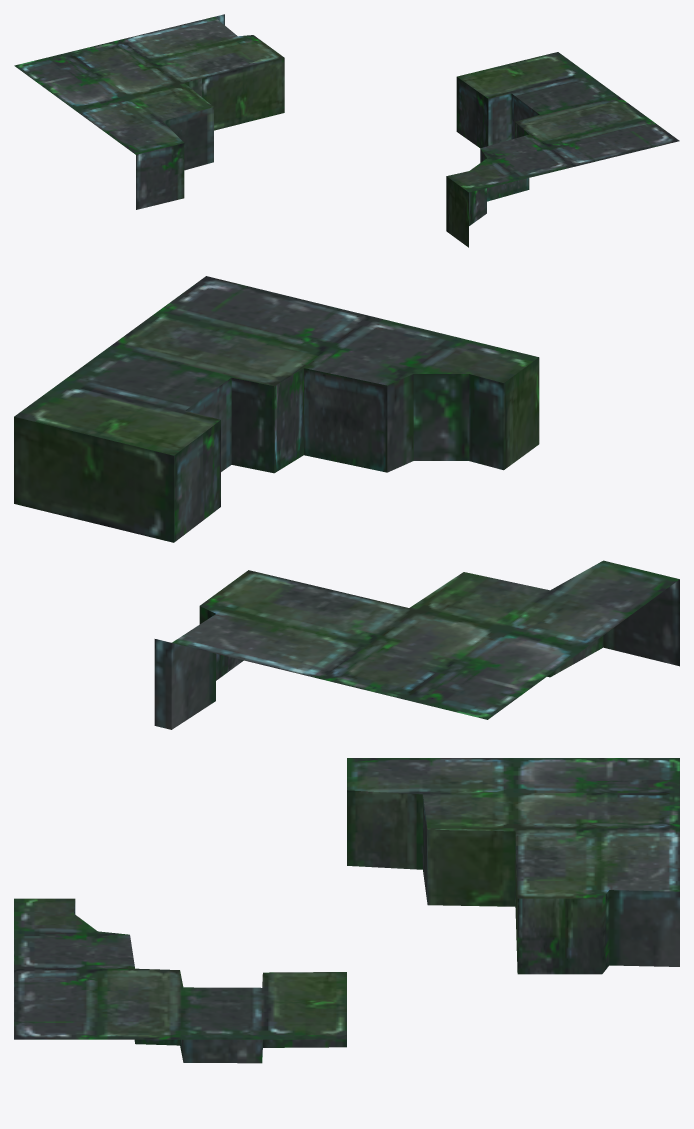
File: stemple_floor_diagonal_03a.fbx
The picture shows the model from 3 angles, top to bottom: view 1: azimuth 30°, elevation 25°; view 2: azimuth 150°, elevation 25°; view 3: azimuth 270°, elevation 25°; orthographic projection. The views are drawn at different scales.
Parts seen in each view (by area): view 1: obj1.092; view 2: obj1.092; view 3: obj1.092.
Part boxes in pixels (x1=…): obj1.092: x1=14, y1=14, x2=679, y2=247; obj1.092: x1=14, y1=276, x2=679, y2=729; obj1.092: x1=14, y1=758, x2=679, y2=1063.
Size of the model in its own units: 4 by 0.5 by 4.
